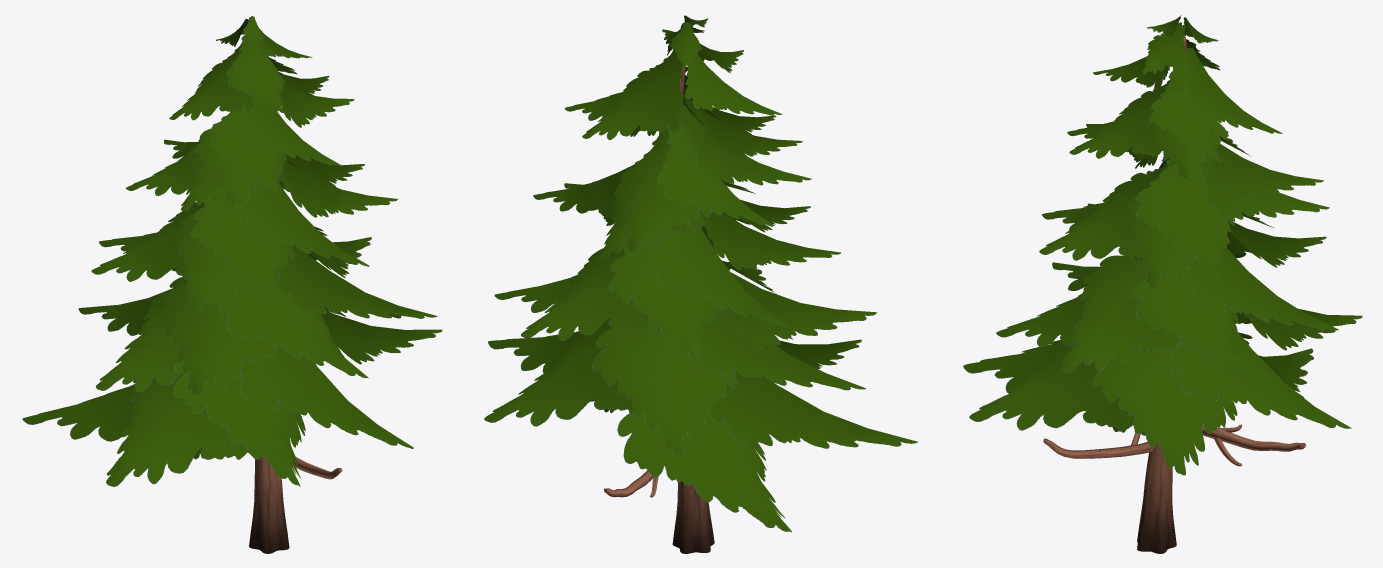
The model's file is Pine_2.glb.
The picture shows the model from 3 angles, left to right: view 1: azimuth 30°, elevation 25°; view 2: azimuth 150°, elevation 25°; view 3: azimuth 270°, elevation 25°; orthographic projection. The views are drawn at different scales.
Visible parts, largest first — view 1: Pine_2; view 2: Pine_2; view 3: Pine_2.
Boxes of the visible parts, <box> form: Pine_2: <box>22,16,442,553</box>; Pine_2: <box>484,15,917,553</box>; Pine_2: <box>963,15,1362,553</box>.
Size of the model in its own units: 5.73 by 7.38 by 5.22.
2 materials, 2 textured.
